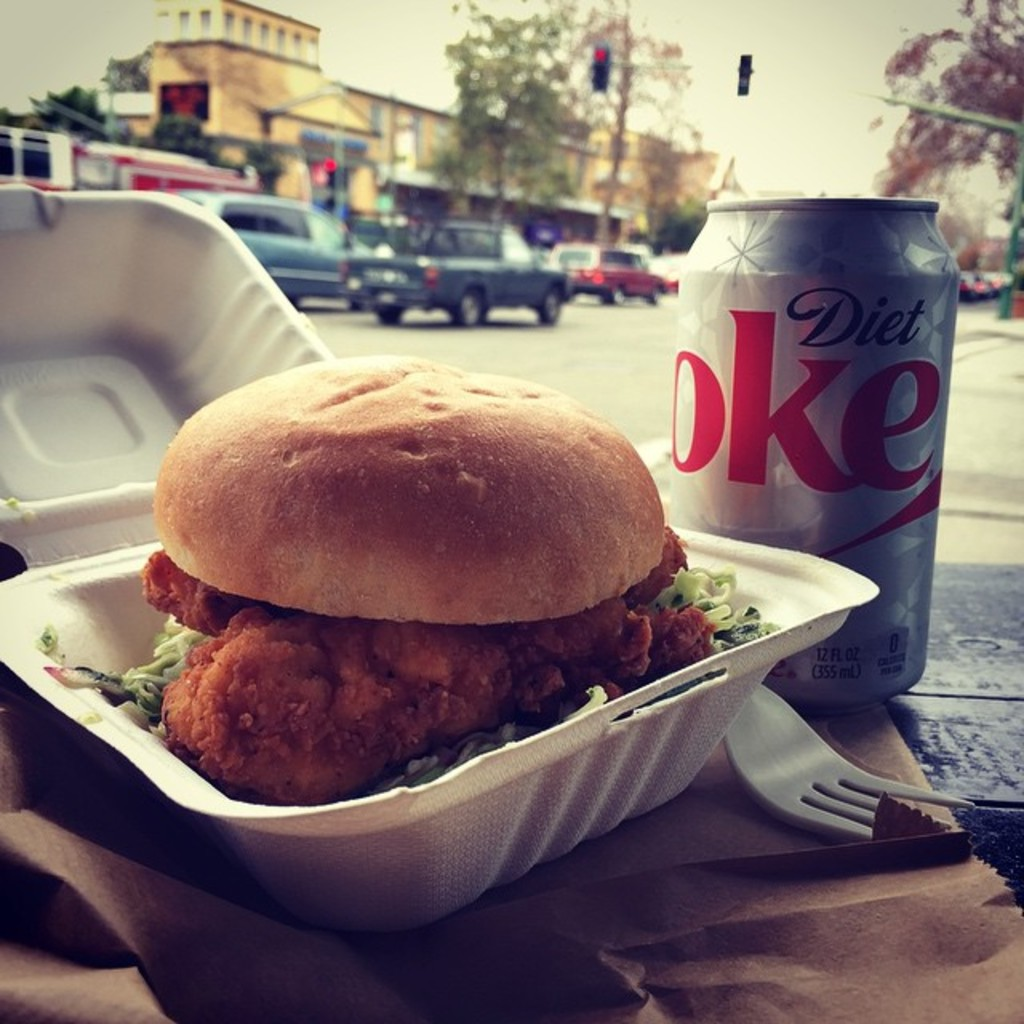Hamburger: (46, 345, 775, 804)
